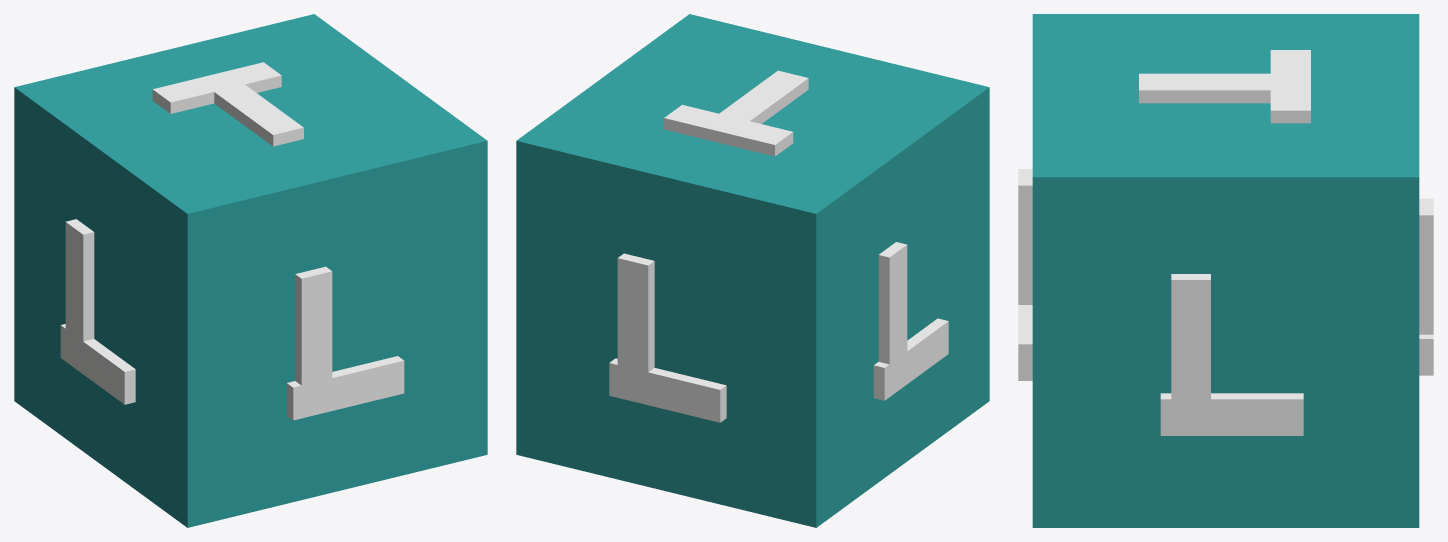
The model's file is TARGET_7.glb.
3 renders of one model, left to right at view 1: azimuth 30°, elevation 25°; view 2: azimuth 150°, elevation 25°; view 3: azimuth 270°, elevation 25°, orthographic. The views are drawn at different scales.
Parts seen in each view (by area): view 1: TARGET_HIGH_7; view 2: TARGET_HIGH_7; view 3: TARGET_HIGH_7.
Part boxes in pixels (bbox=[...]): TARGET_HIGH_7: bbox=[14, 14, 487, 527]; TARGET_HIGH_7: bbox=[516, 14, 989, 527]; TARGET_HIGH_7: bbox=[1018, 14, 1433, 527].
Bounding box in the file's own units: 2.15 × 2.15 × 2.15.
